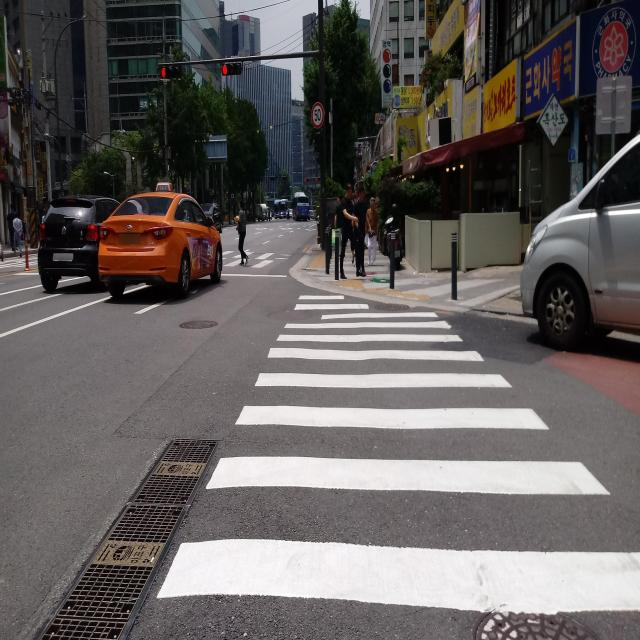횡단보도: (154, 291, 638, 622), (227, 238, 300, 278)
